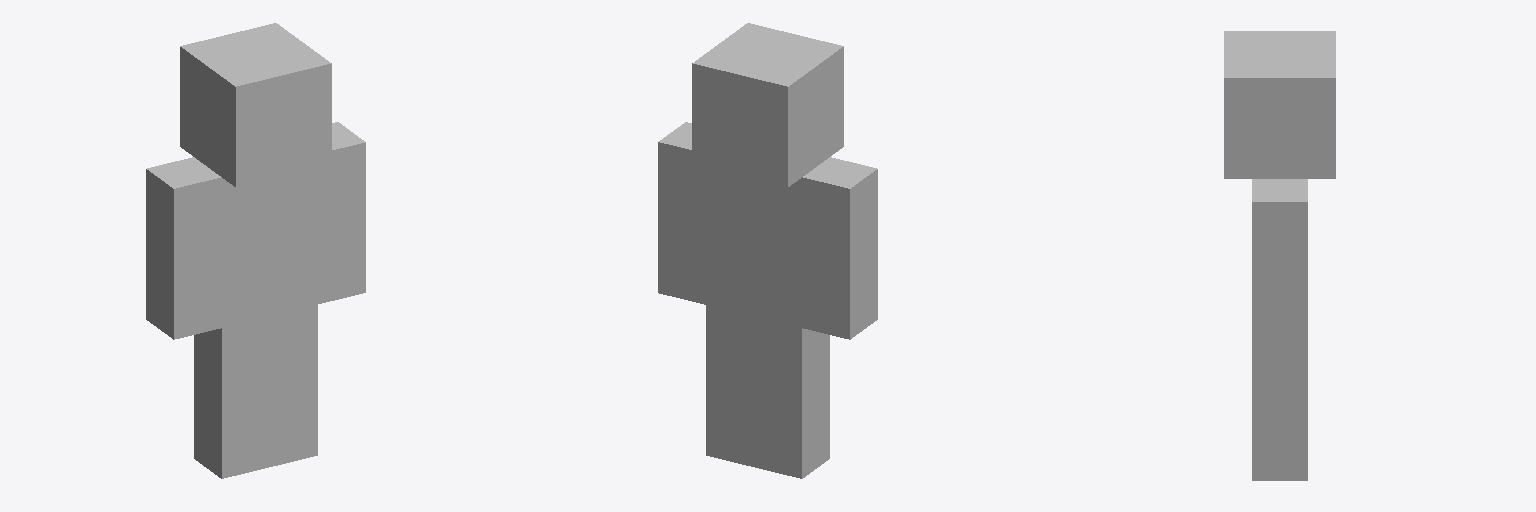
Rendered from steve.obj.
The picture shows the model from 3 angles: view 1: azimuth 30°, elevation 25°; view 2: azimuth 150°, elevation 25°; view 3: azimuth 270°, elevation 25°; orthographic projection.
Parts seen in each view (by area): view 1: Cube_Cube.001, Cube.001_Cube.002, Cube.005_Cube.007, Cube.003_Cube.008, Cube.004_Cube.005, Cube.002_Cube.003; view 2: Cube_Cube.001, Cube.001_Cube.002, Cube.005_Cube.007, Cube.003_Cube.008, Cube.004_Cube.005, Cube.002_Cube.003; view 3: Cube_Cube.001, Cube.004_Cube.005, Cube.002_Cube.003.
Boxes of the visible parts, x1,y1,x2,y2 form: Cube_Cube.001: [180, 23, 331, 186]; Cube.001_Cube.002: [222, 167, 317, 327]; Cube.005_Cube.007: [146, 157, 221, 339]; Cube.003_Cube.008: [194, 317, 269, 478]; Cube.004_Cube.005: [318, 122, 365, 303]; Cube.002_Cube.003: [270, 305, 317, 466]; Cube_Cube.001: [692, 23, 843, 186]; Cube.001_Cube.002: [706, 167, 801, 327]; Cube.005_Cube.007: [802, 157, 877, 339]; Cube.003_Cube.008: [754, 317, 829, 478]; Cube.004_Cube.005: [658, 122, 705, 304]; Cube.002_Cube.003: [706, 305, 753, 466]; Cube_Cube.001: [1224, 31, 1335, 178]; Cube.004_Cube.005: [1252, 179, 1307, 352]; Cube.002_Cube.003: [1252, 330, 1307, 480].
Bounding box in the file's own units: 3.2 × 6.4 × 1.6.